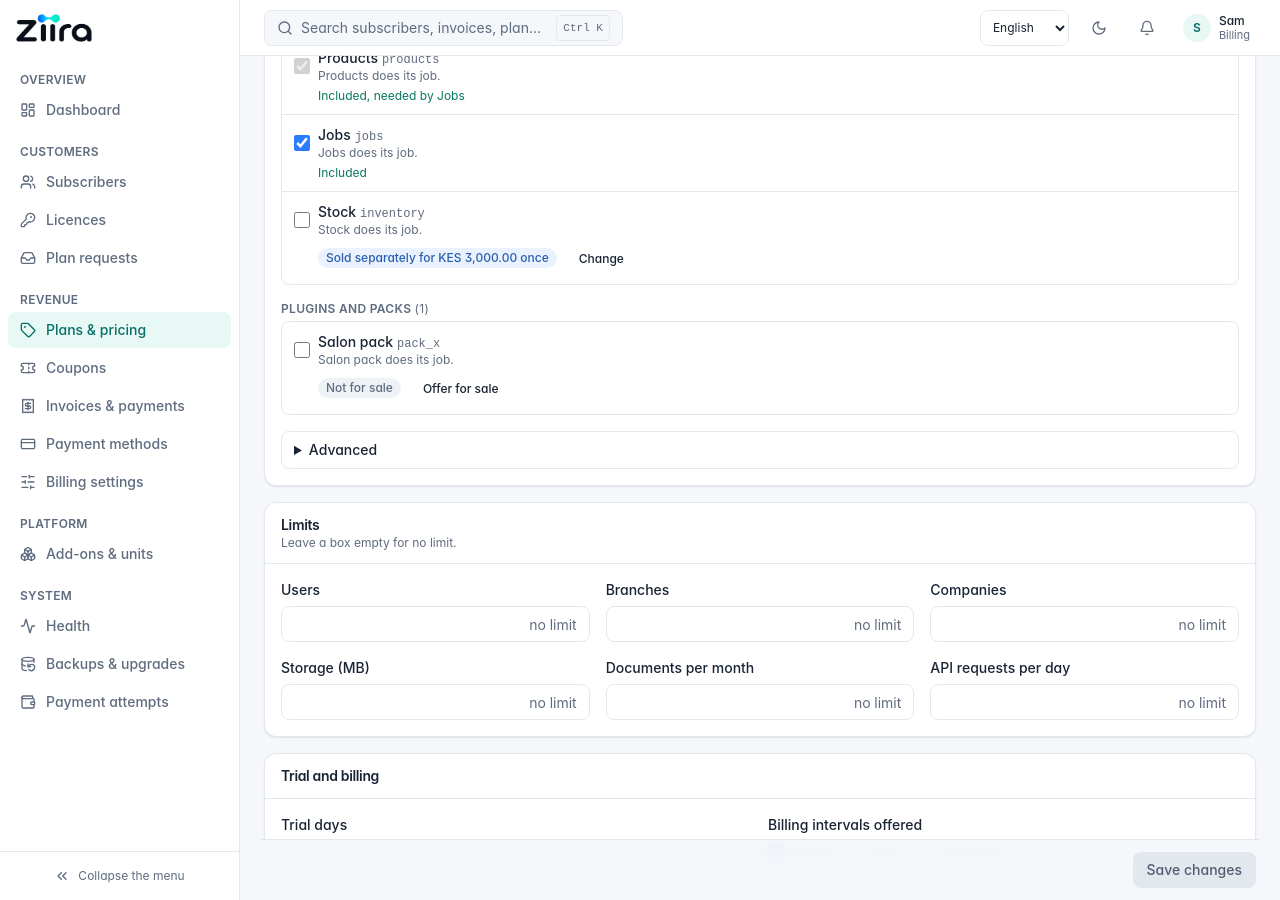
Scenario: selling a unit that is not ticked › pre-ticks an edition's units from Advanced
The width and height of the screenshot is (1280, 900).
(page scrolled)
Expected: the text "Stock" is shown, [318,203,356,220]
Click the heading "Advanced". click: [343, 450]
box: [309,441,377,458]
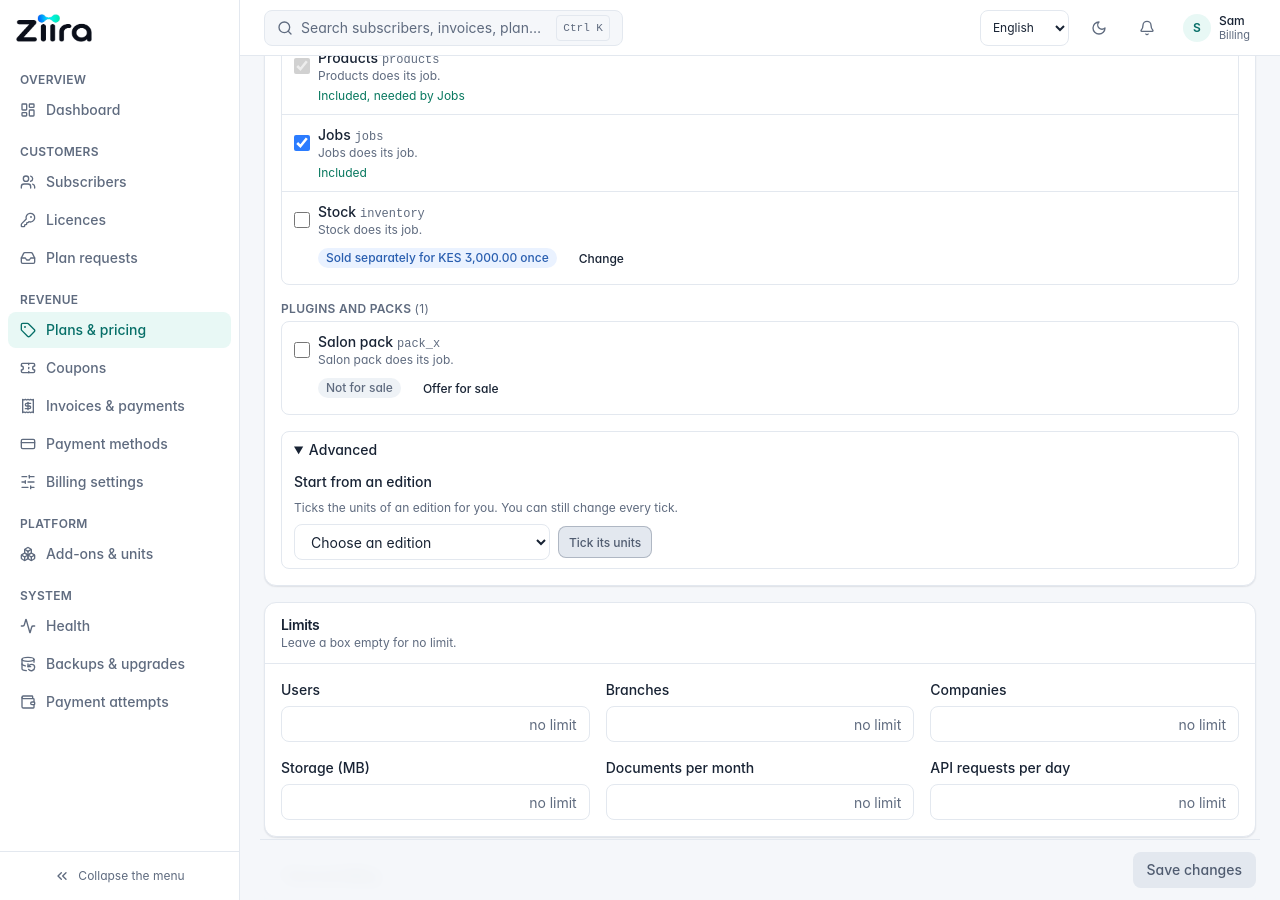
Select "Retail" in the dropdown named "Start from an edition". click: [422, 542]
box: [294,524,550,560]
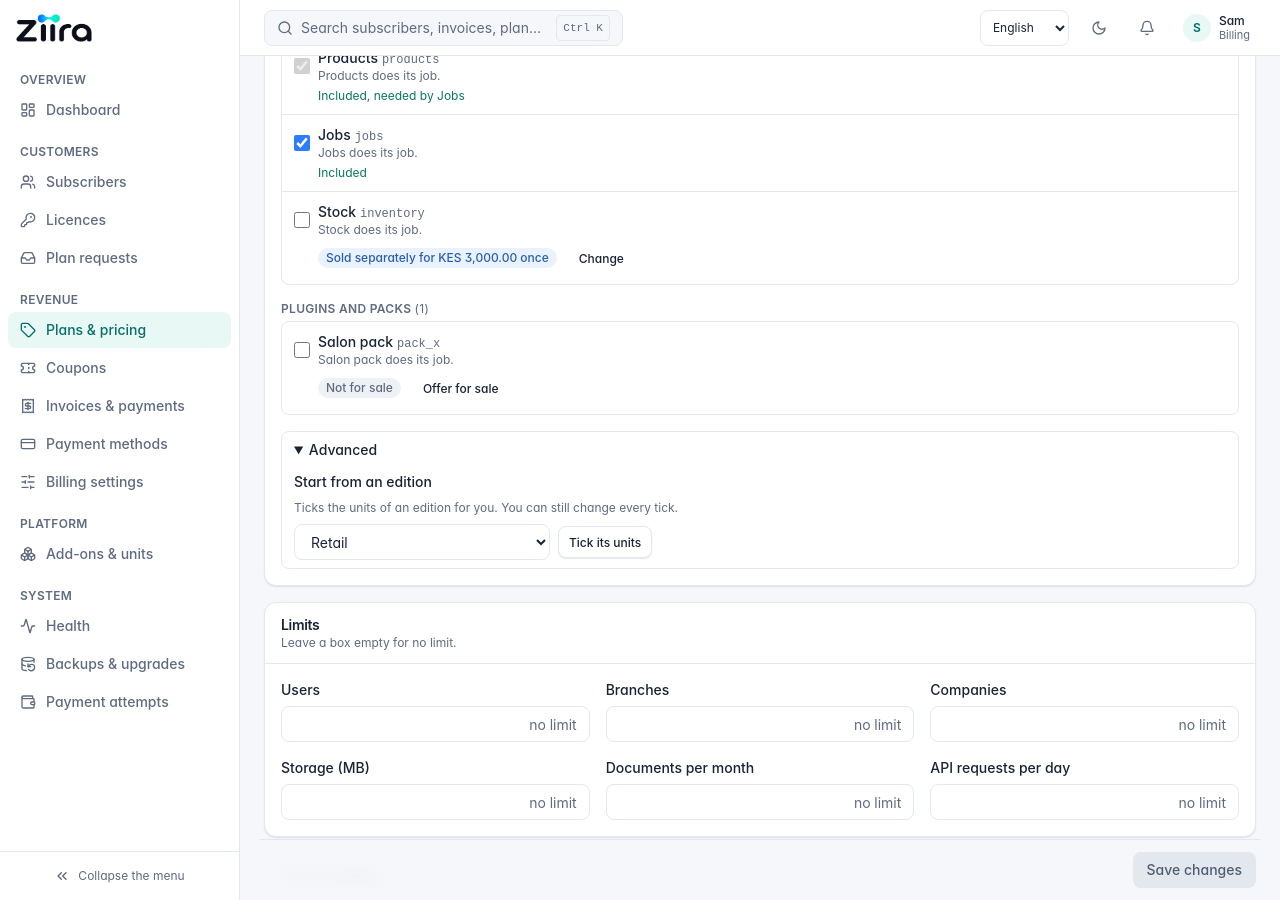
Click the button "Tick its units". click: [605, 542]
box: [558,526,652,558]
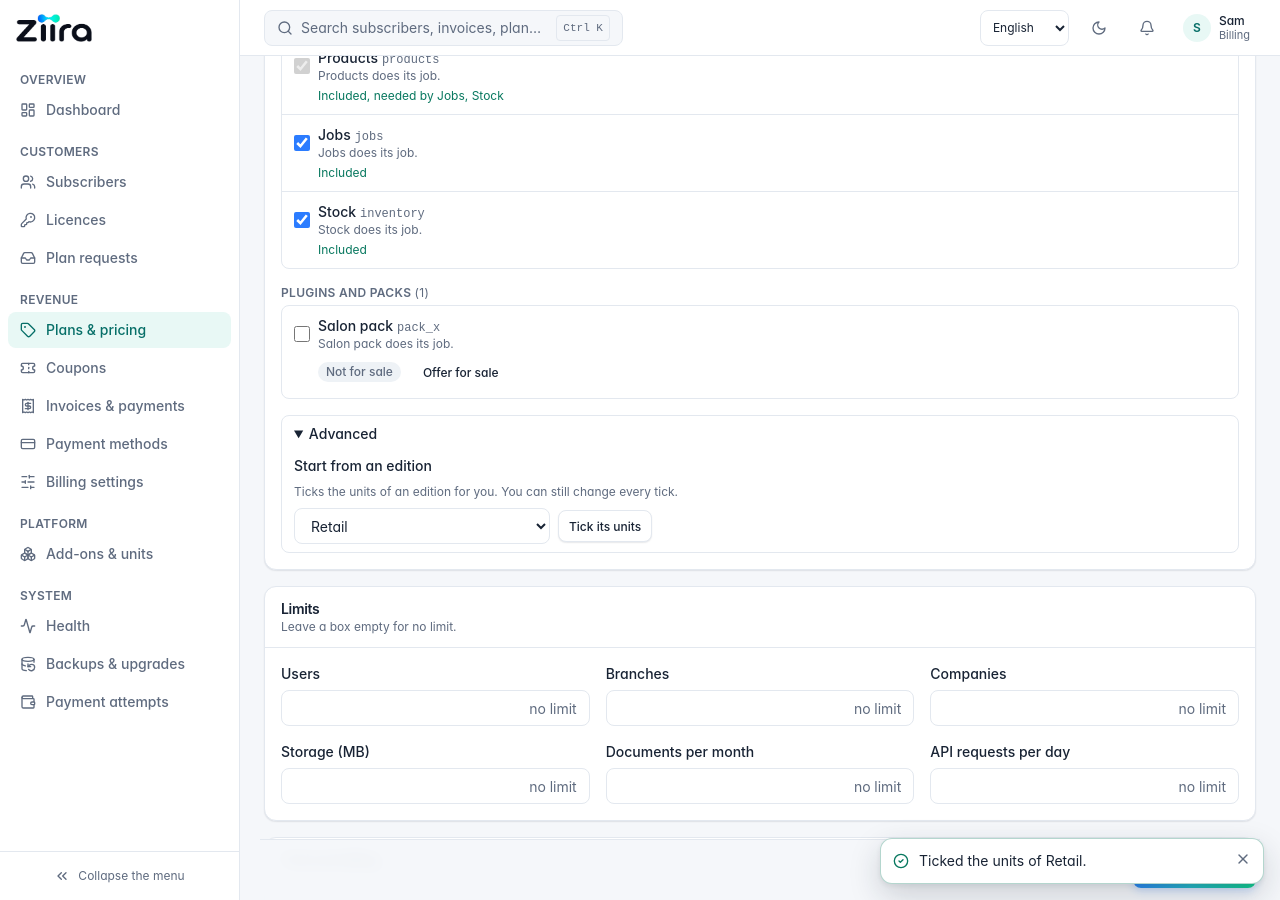
Result: the checkbox labelled "Stock inventory Stock does its job." is checked at [294,212,310,228]
